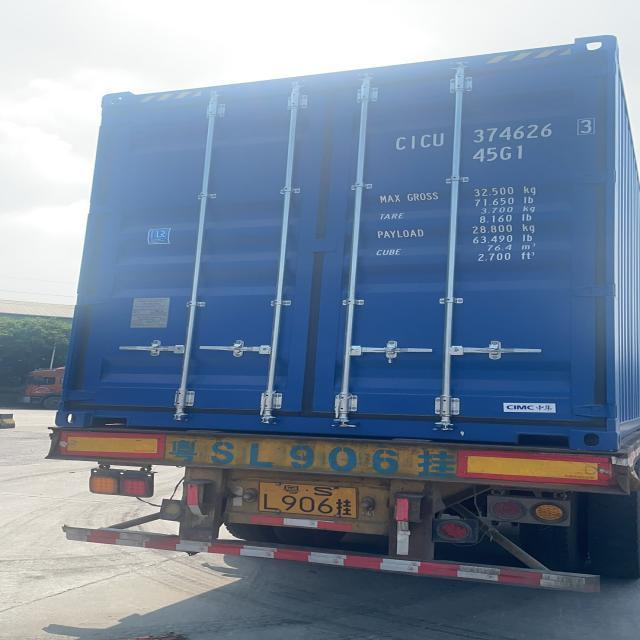ISO: (474, 144, 526, 162)
container_number: (400, 115, 598, 143)
